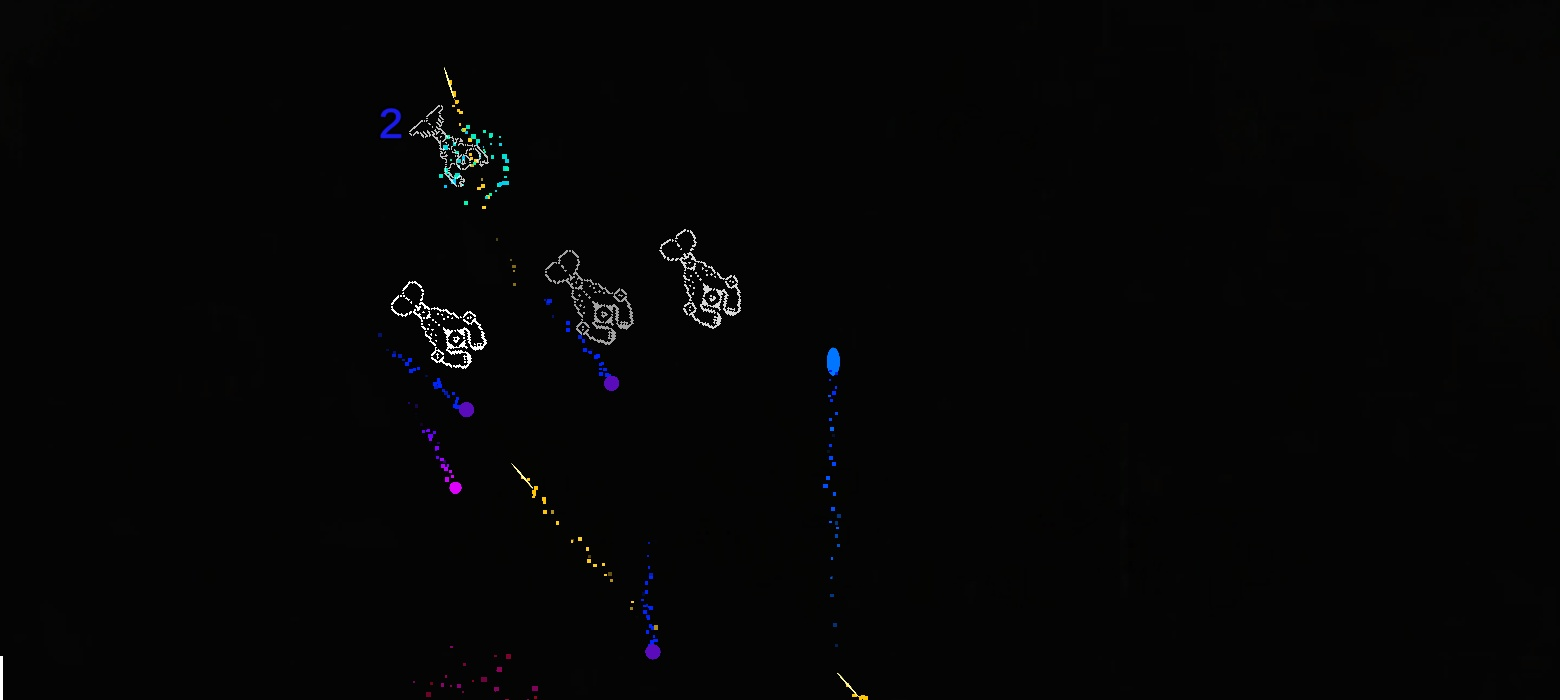enemy: (544, 249, 635, 346), (390, 280, 488, 370), (658, 228, 742, 330), (408, 104, 489, 188)
